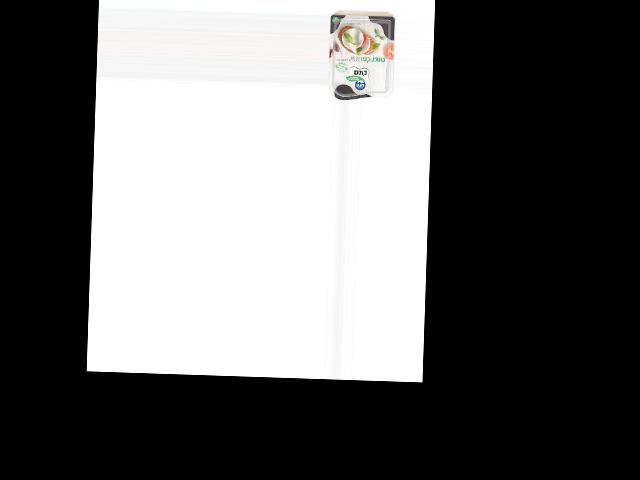cheese: (327, 13, 396, 100)
